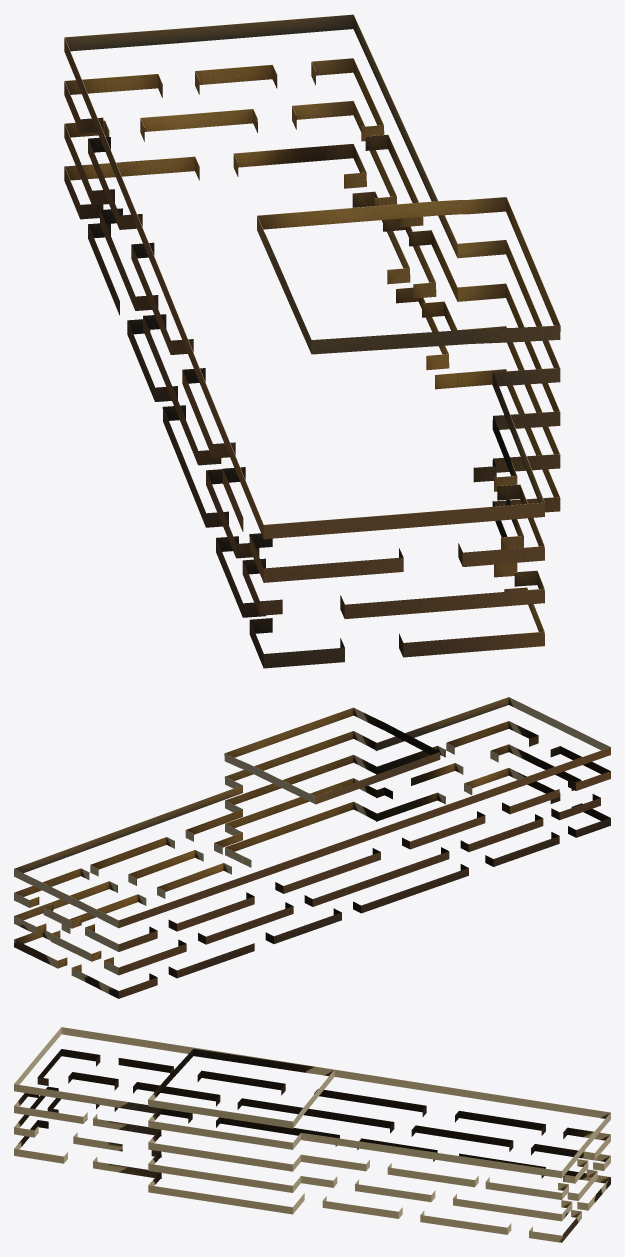
File: Balustrade_08.fbx
The picture shows the model from 3 angles, top to bottom: view 1: azimuth 30°, elevation 25°; view 2: azimuth 150°, elevation 25°; view 3: azimuth 270°, elevation 25°; orthographic projection. The views are drawn at different scales.
Parts seen in each view (by area): view 1: Balustrade_08; view 2: Balustrade_08; view 3: Balustrade_08.
Boxes of the visible parts, x1=… form: Balustrade_08: x1=64, y1=14, x2=560, y2=668; Balustrade_08: x1=14, y1=697, x2=610, y2=998; Balustrade_08: x1=14, y1=1027, x2=610, y2=1242.
Size of the model in its own units: 43.17 by 13.13 by 75.56.
1 material, 1 textured.
